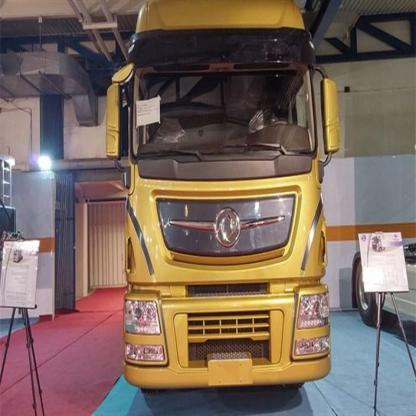Truck: (101, 0, 345, 389)
